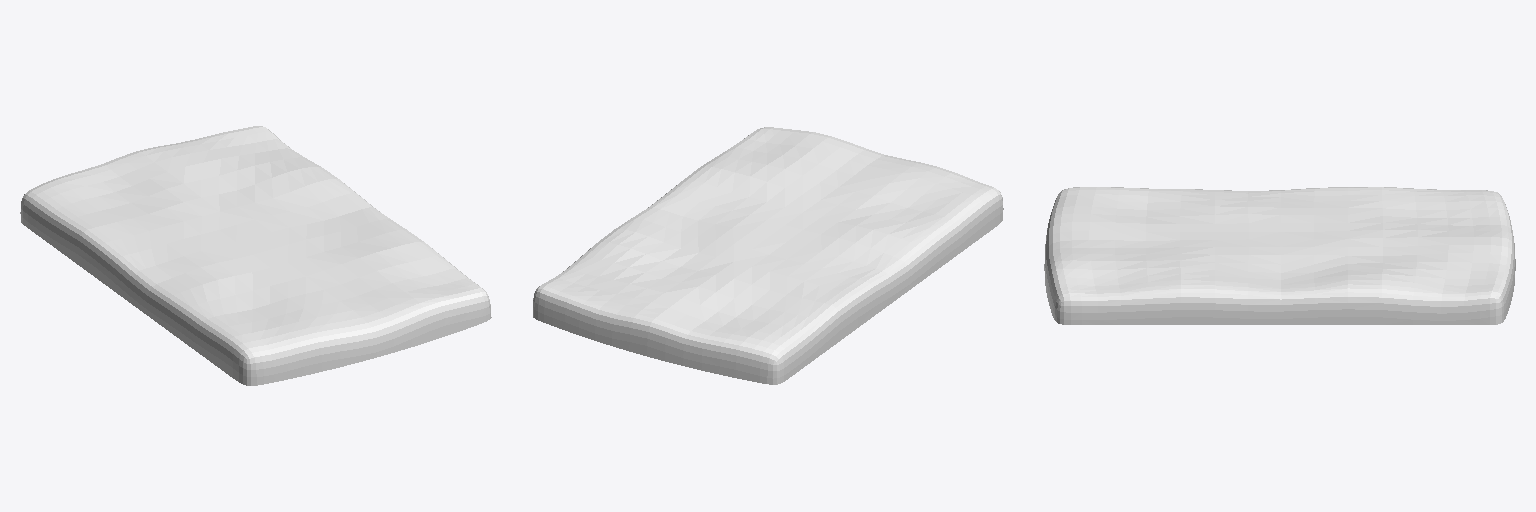
URDF robot description (sphere):
<?xml version="0.0" ?>
<robot name="sphere">
    <material name="white">
        <color rgba="0.96 0.96 0.96 1"/>
    </material>

    <link name="baseLink">
        <contact>
            <lateral_friction value="1.0"/>
        </contact>
        <inertial>
            <origin rpy="0 0 0" xyz="0 0 0"/>
            <mass value="0.05"/>
            <inertia ixx="1" ixy="0" ixz="0" iyy="1" iyz="0" izz="1"/>
        </inertial>
        <visual>
            <origin rpy="0 0 0" xyz="0 0 0"/>
            <geometry>
                <mesh filename="meshes/gauze.obj" scale="1 1 1"/>
            </geometry>
            <!--      <geometry>-->
            <!--        <box size="0.004 0.002 0.003"/>-->
            <!--      </geometry>-->
            <material name="white"/>
        </visual>
        <collision>
            <origin rpy="0 0 0" xyz="0 0 0"/>
            <geometry>
                <box size="0.004 0.002 0.003"/>
            </geometry>
        </collision>
    </link>
</robot>

--- Render facts (derived) ---
3 views of the same robot in one strip: view 1: azimuth 30°, elevation 25°; view 2: azimuth 150°, elevation 25°; view 3: azimuth 270°, elevation 25° (orthographic).
Robot: sphere — 1 links, 0 joints (none); root link baseLink; default pose: all joints at 0.
Links seen in each view (by area): view 1: baseLink; view 2: baseLink; view 3: baseLink.
Boxes of the visible links, x1=… form: baseLink: x1=20, y1=126, x2=491, y2=385; baseLink: x1=533, y1=127, x2=1003, y2=384; baseLink: x1=1044, y1=187, x2=1515, y2=324.
Bounding box of the posed robot: 0.0152 × 0.0255 × 0.0025 m (x, y, z).
1 mesh visuals loaded from 1 distinct referenced files (1 OBJ).